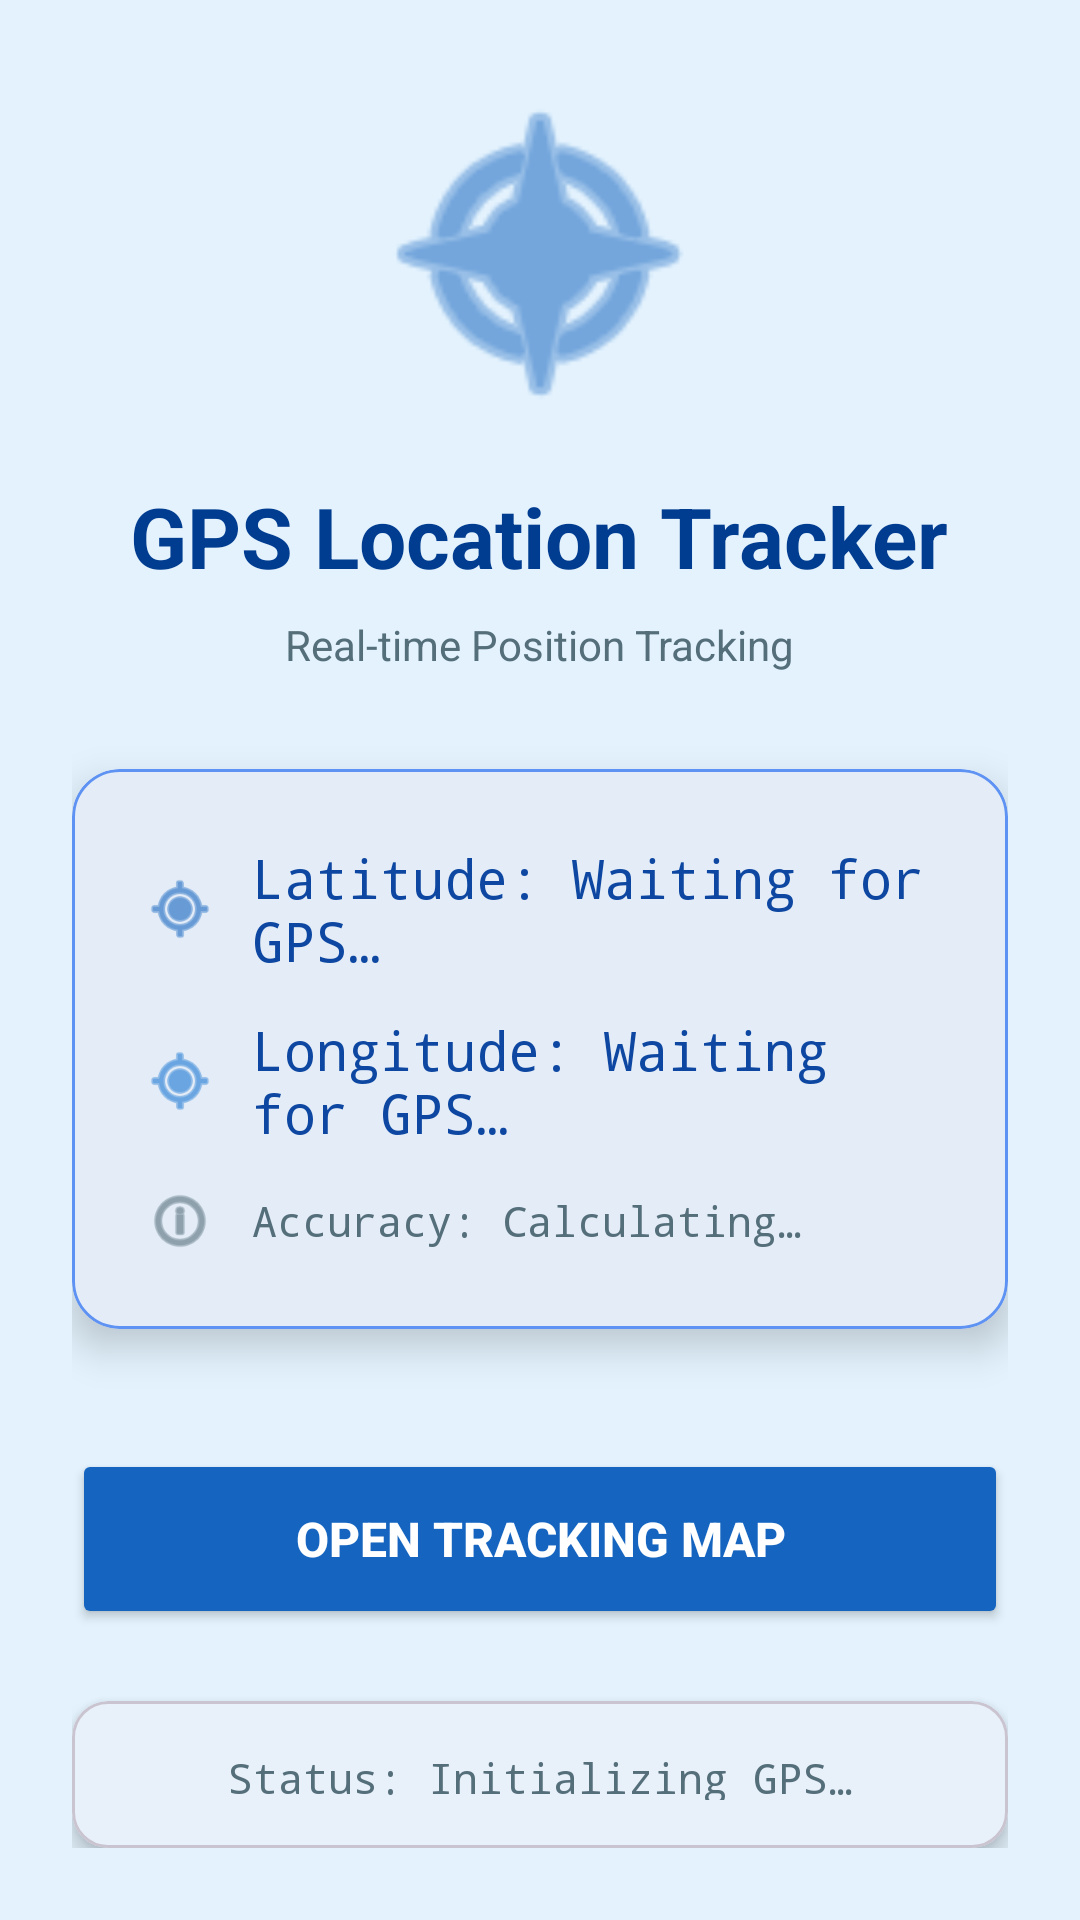

Icon bounding boxes for this 1080x1920 phone screenshot, format [x1,y1,x2,y2]:
GPS Compass Icon: [397,112,680,396]
